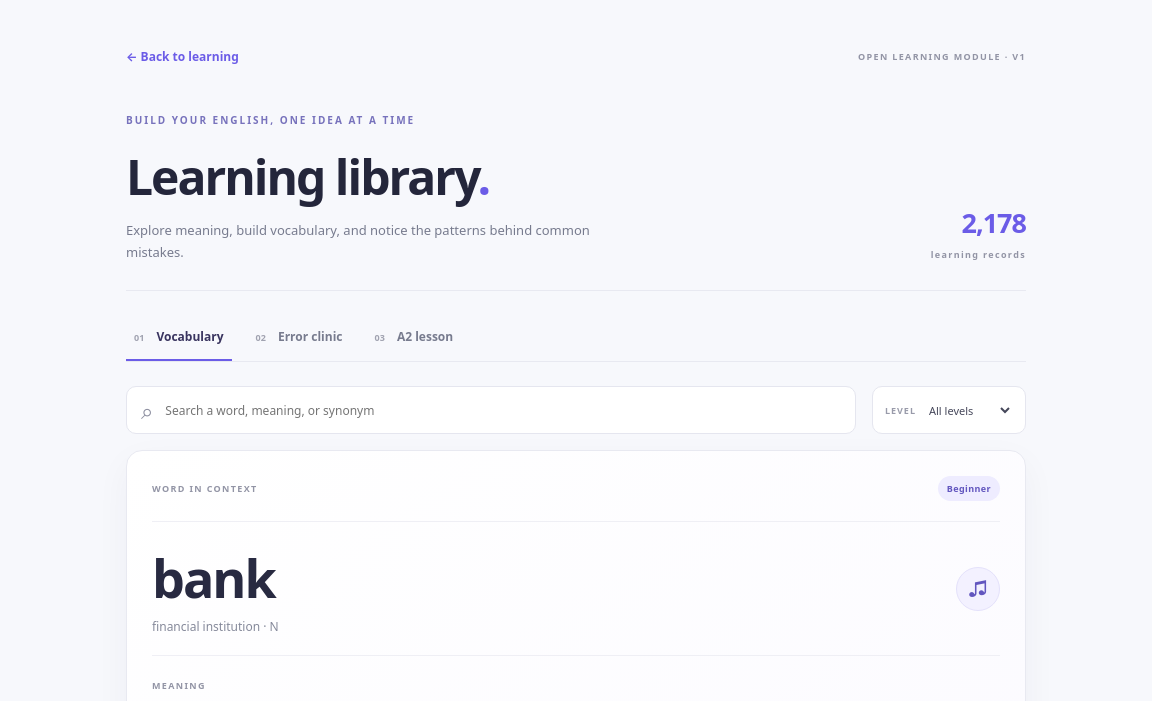
Test: previews the original eight-stage A2 communicative lesson
The width and height of the screenshot is (1152, 701).
Click the button "03 A2 lesson": click(414, 336) x1=366 y1=311 x2=461 y2=361
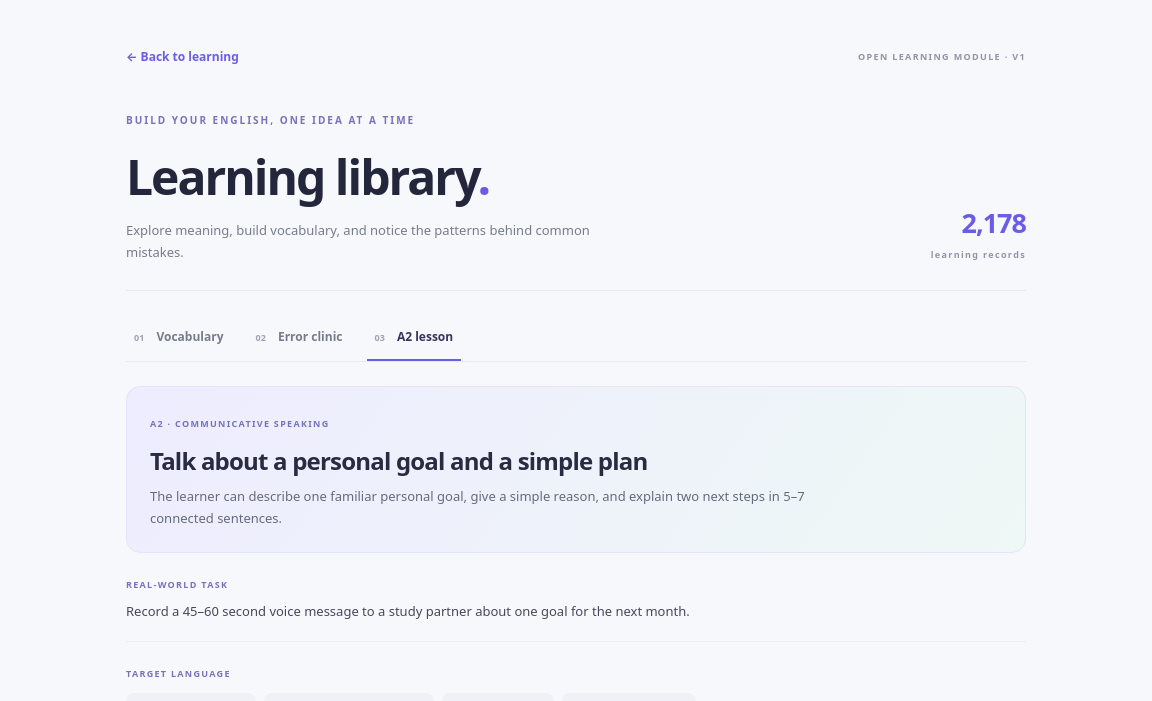
Expected: the text "Talk about a personal goal and a simple plan" is shown, x1=150 y1=444 x2=647 y2=477
